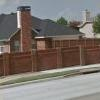Chimney: (74, 5, 95, 31)
